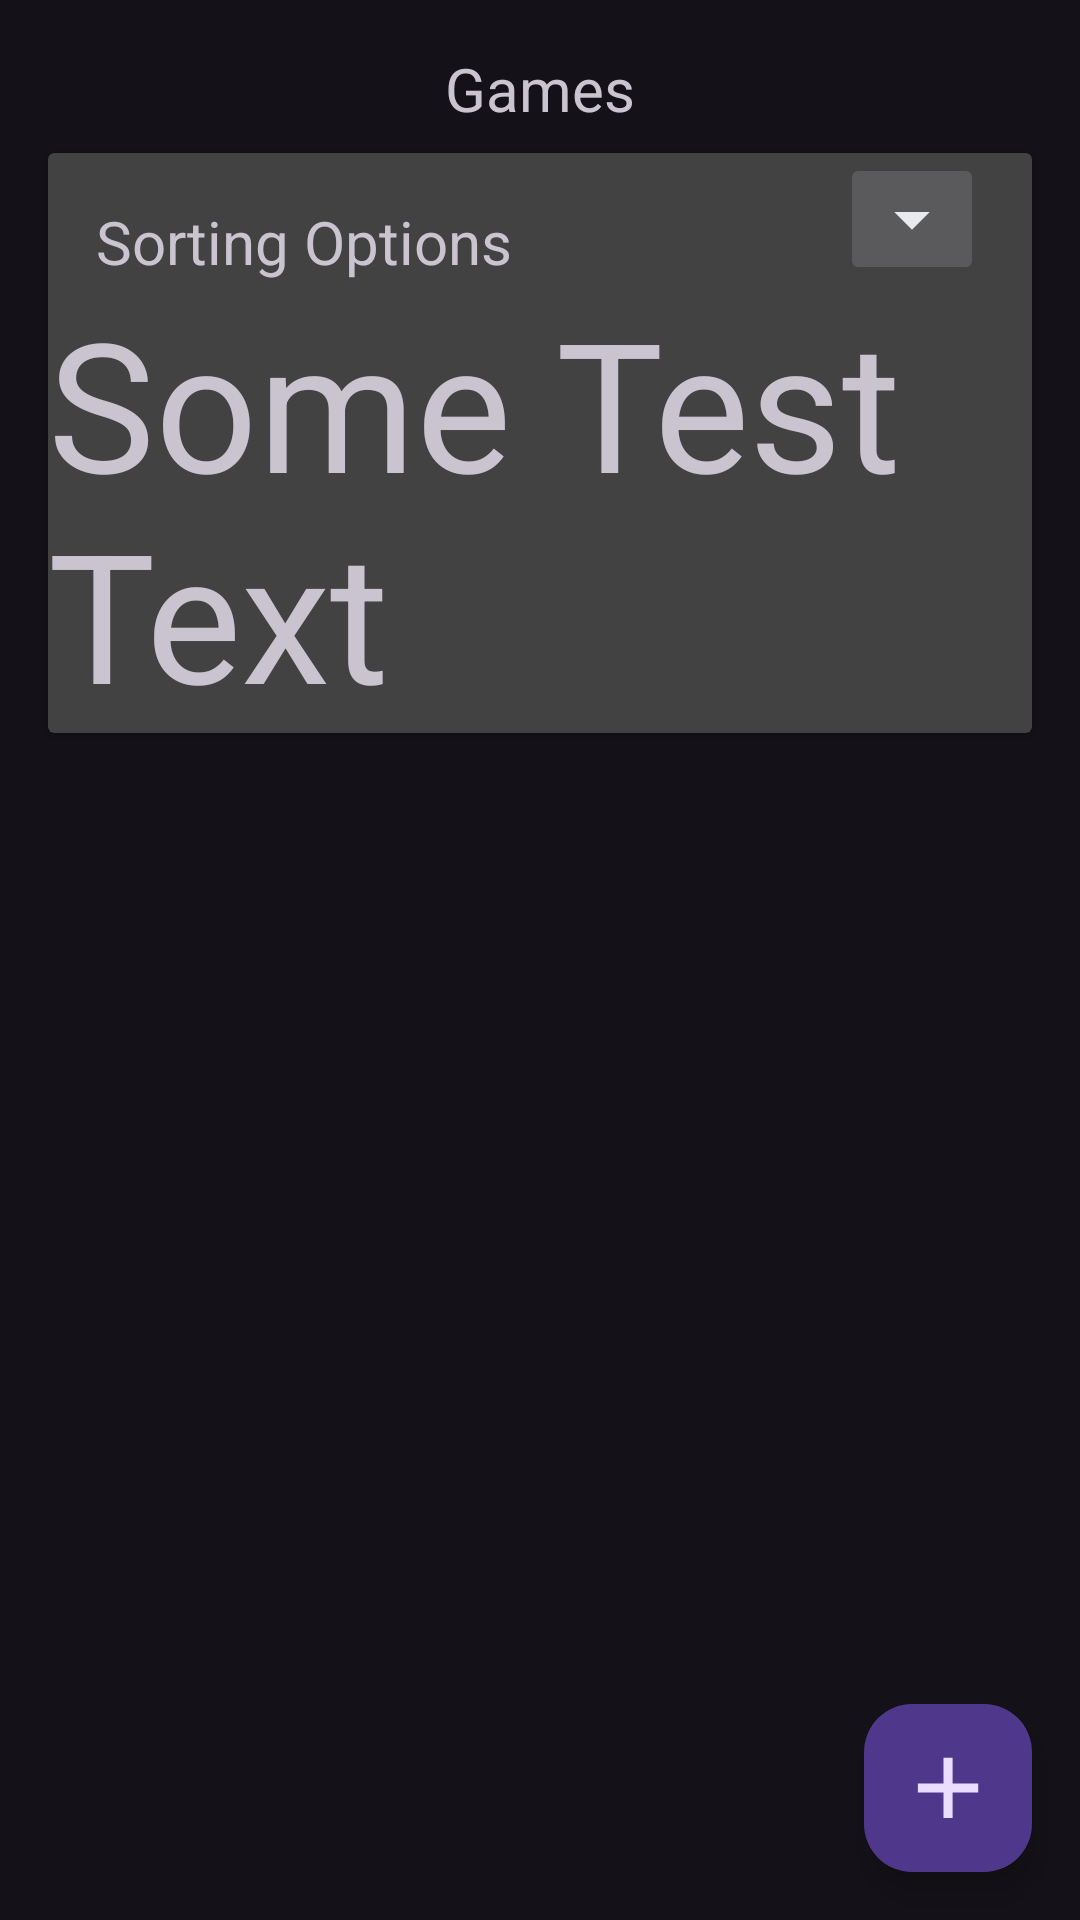

Named icons in this screenshot (1080x1920) and their bounding boxes, region(x1, y1, x2, y2):
Add Game: region(864, 1704, 1032, 1872)
down arrow: region(852, 171, 972, 267)
